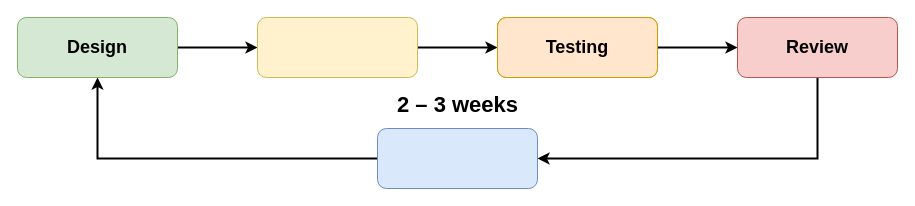
Some shapes in this 915 by 206 pixel diagram are drawn without their labels. The shapes that lost their labels are listed below. From the top down, each one's box as (x1, y1, x2, y2) in pixels, then its label:
(256, 16, 418, 78): Developement
(376, 128, 538, 188): Prototype consultation
